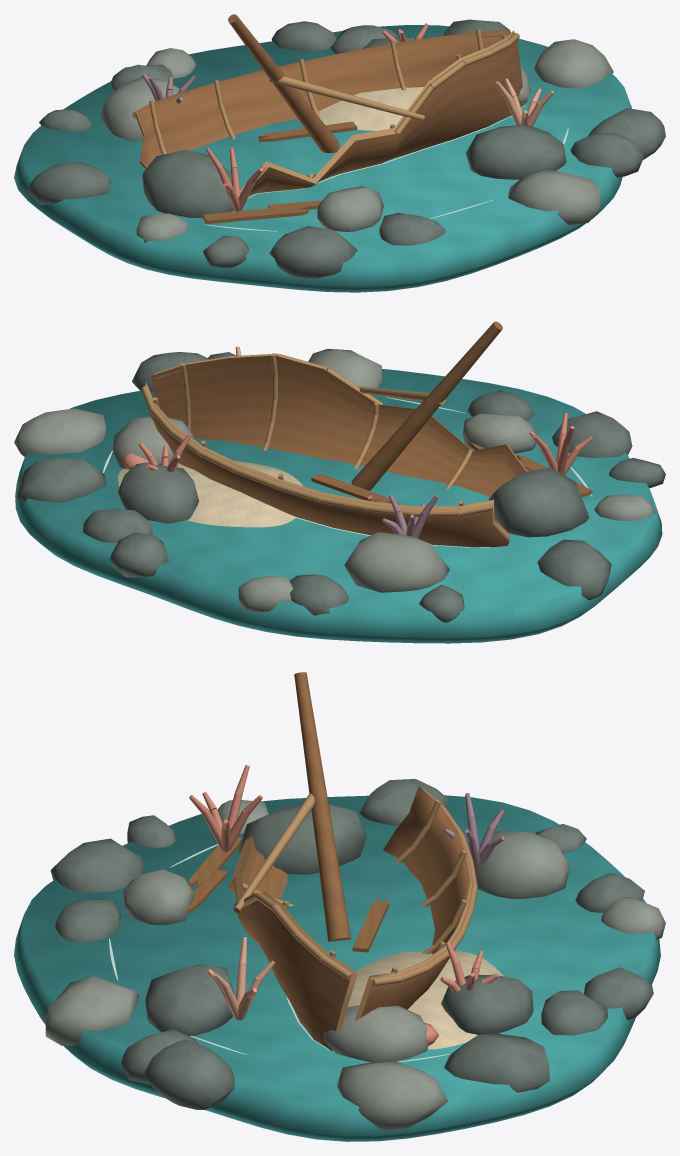
The model's file is shipwreck-reef-v5-lod.glb.
3 views of the same model, one above another, from view 1: azimuth 30°, elevation 25°; view 2: azimuth 150°, elevation 25°; view 3: azimuth 270°, elevation 25° (orthographic). The views are drawn at different scales.
Parts seen in each view (by area): view 1: Shipwreck | collectible LOD; view 2: Shipwreck | collectible LOD; view 3: Shipwreck | collectible LOD.
Boxes of the visible parts, left/top/right/bottom form: Shipwreck | collectible LOD: left=14, top=14, right=665, bottom=292; Shipwreck | collectible LOD: left=14, top=321, right=665, bottom=643; Shipwreck | collectible LOD: left=14, top=672, right=665, bottom=1141.
Bounding box in the file's own units: 1.72 × 0.6038 × 1.45.
11 materials, 5 textured.
